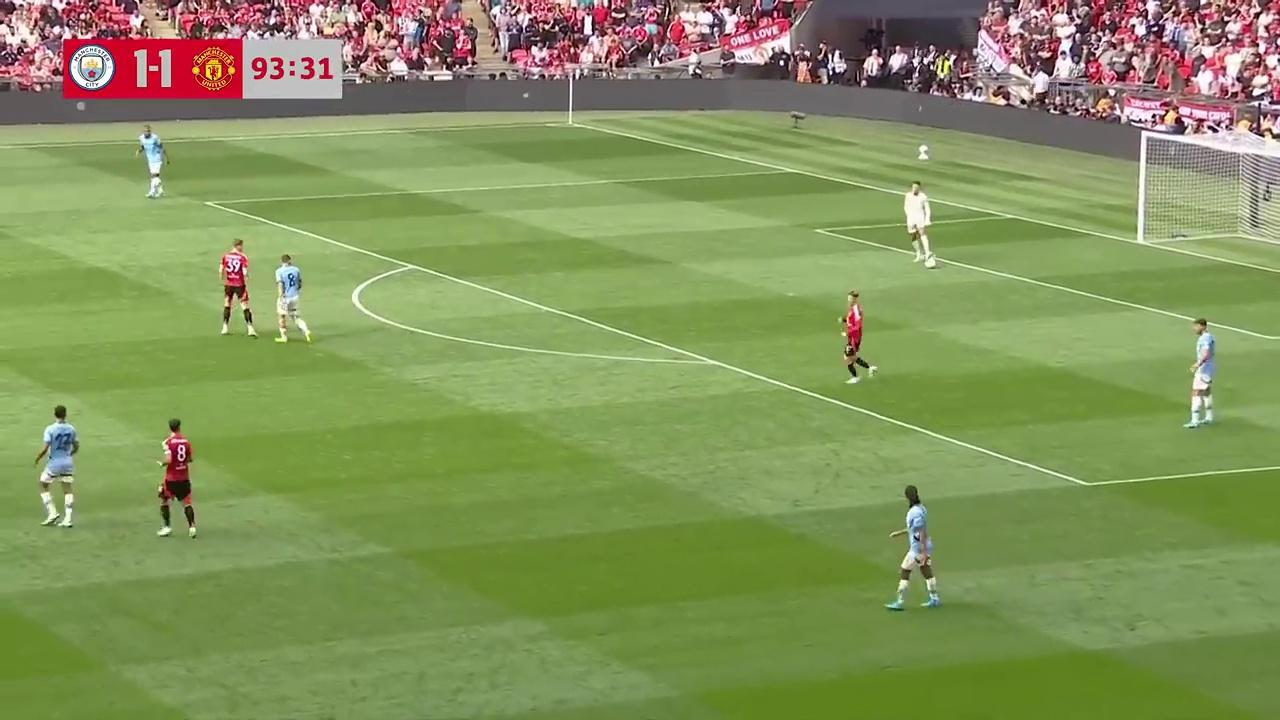ball: (924, 253, 939, 270)
player: (886, 485, 941, 610), (33, 405, 79, 529), (156, 418, 196, 540), (218, 237, 257, 337), (274, 253, 312, 345), (840, 291, 876, 382), (1186, 318, 1216, 427), (904, 182, 934, 268), (136, 124, 168, 199)
